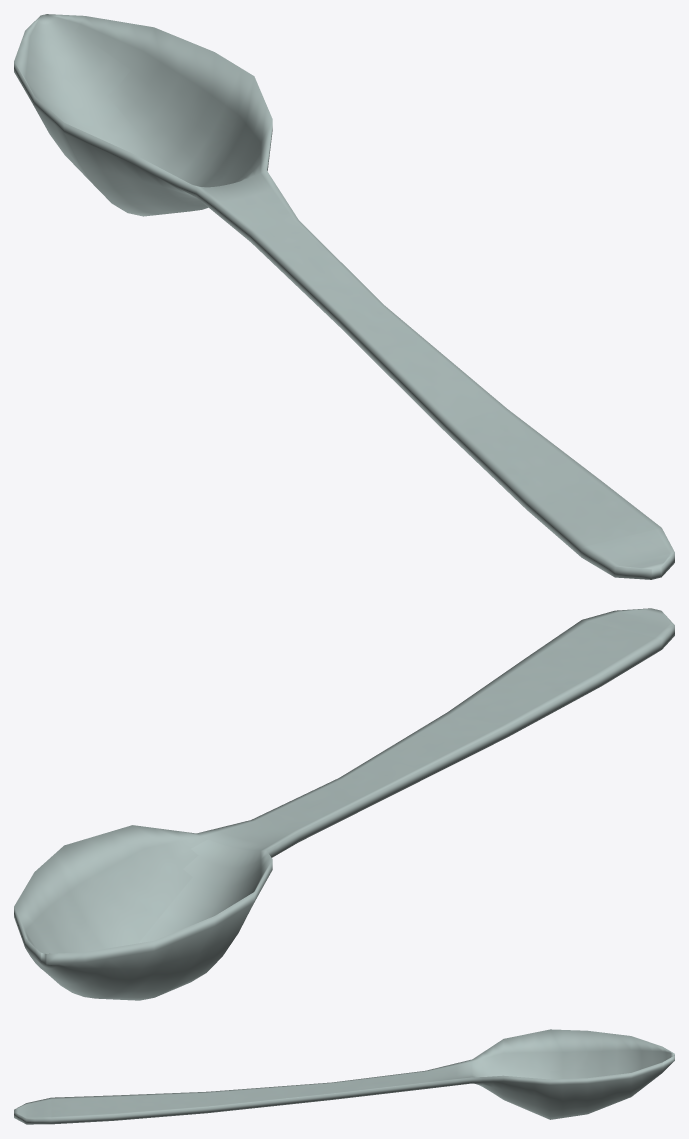
The model's file is 08_Dinner_Spoon.fbx.
The picture shows the model from 3 angles, top to bottom: view 1: azimuth 30°, elevation 25°; view 2: azimuth 150°, elevation 25°; view 3: azimuth 270°, elevation 25°; orthographic projection. The views are drawn at different scales.
Visible parts, largest first — view 1: 08_Dinner_Spoon_Mesh; view 2: 08_Dinner_Spoon_Mesh; view 3: 08_Dinner_Spoon_Mesh.
Part boxes in pixels (x1,y1,x2,y2): 08_Dinner_Spoon_Mesh: (14,14,674,579); 08_Dinner_Spoon_Mesh: (14,608,674,1000); 08_Dinner_Spoon_Mesh: (14,1029,674,1124).
Size of the model in its own units: 3.8 by 2.2 by 21.2.
Materials: 1 (1 with a texture image).
